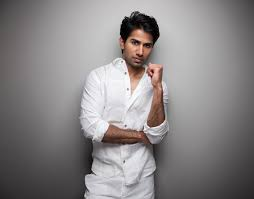Indian_Male: (124, 25, 151, 68)
